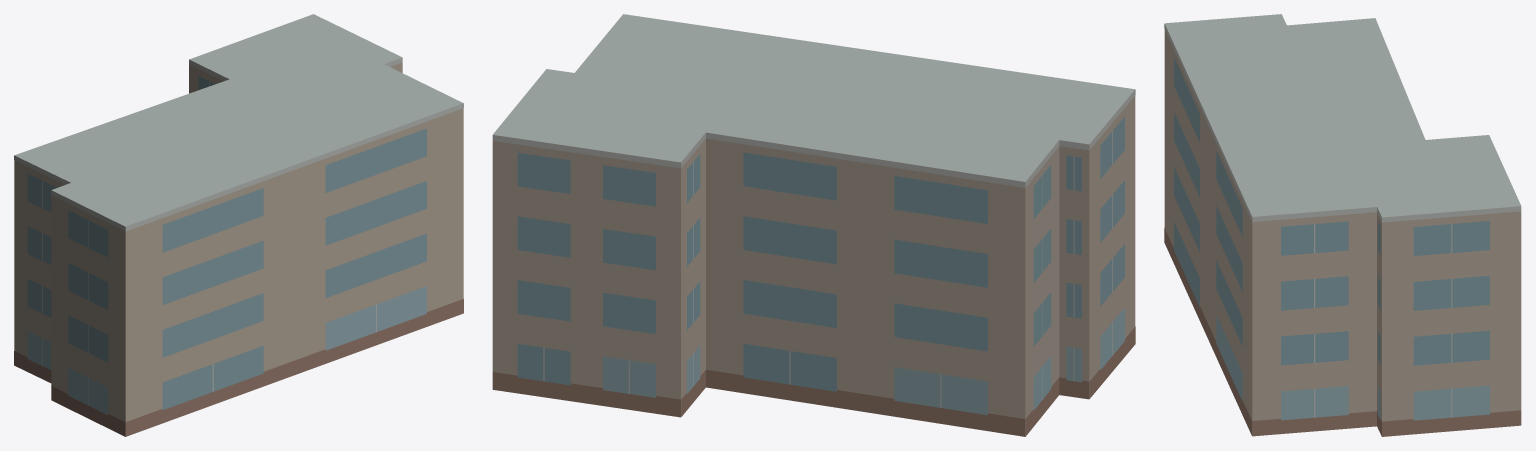
Rendered from survey-upis-32465603.glb.
3 views of the same model, side by side, from view 1: azimuth 30°, elevation 25°; view 2: azimuth 150°, elevation 25°; view 3: azimuth 270°, elevation 25° (orthographic). The views are drawn at different scales.
Visible parts, largest first — view 1: survey-upis-32465603.tmp; view 2: survey-upis-32465603.tmp; view 3: survey-upis-32465603.tmp.
Boxes of the visible parts, left/top/right/bottom form: survey-upis-32465603.tmp: left=14, top=14, right=463, bottom=436; survey-upis-32465603.tmp: left=492, top=14, right=1135, bottom=436; survey-upis-32465603.tmp: left=1164, top=14, right=1521, bottom=436.
Bounding box in the file's own units: 20.9 × 10.5 × 15.49.
